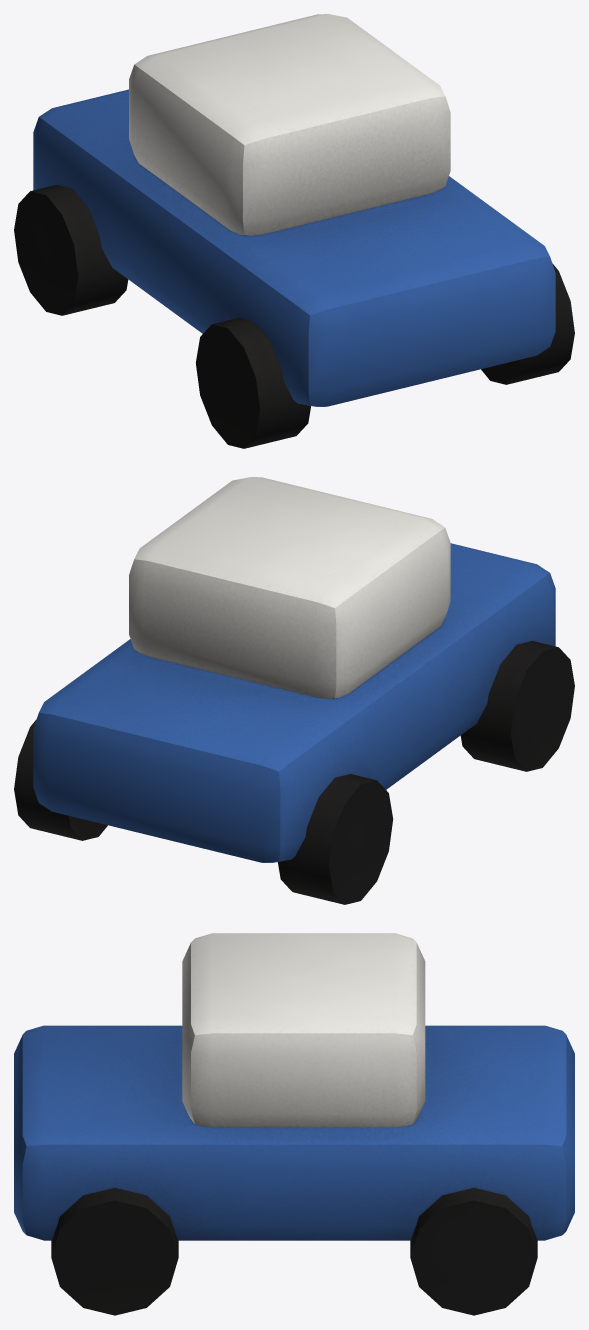
Rendered from H_ToyCar.fbx.
The picture shows the model from 3 angles, top to bottom: view 1: azimuth 30°, elevation 25°; view 2: azimuth 150°, elevation 25°; view 3: azimuth 270°, elevation 25°; orthographic projection.
Parts seen in each view (by area): view 1: H_ToyCar; view 2: H_ToyCar; view 3: H_ToyCar.
Part boxes in pixels (x1,y1,x2,y2): H_ToyCar: [14, 14, 574, 448]; H_ToyCar: [14, 477, 574, 904]; H_ToyCar: [14, 933, 574, 1315].
Size of the model in its own units: 96 by 78 by 150.
Materials: 1 (1 with a texture image).
